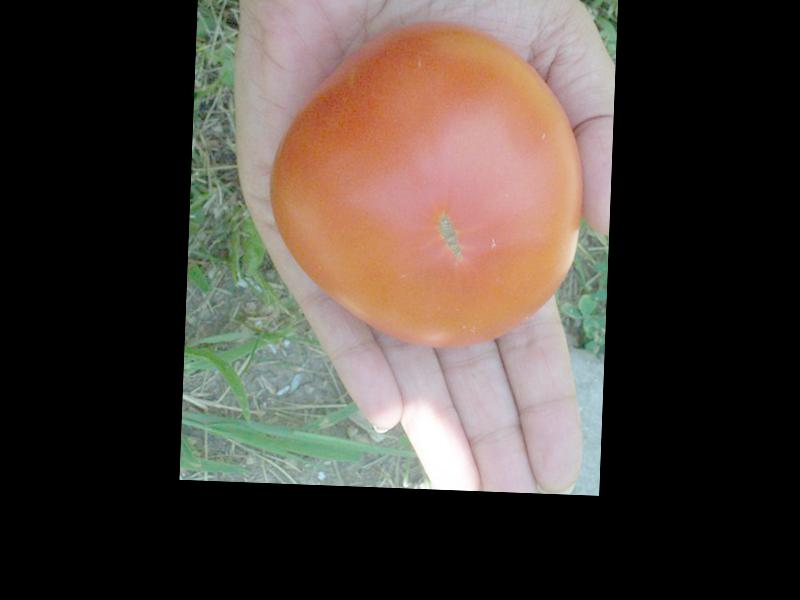Tomato: (264, 19, 588, 351)
